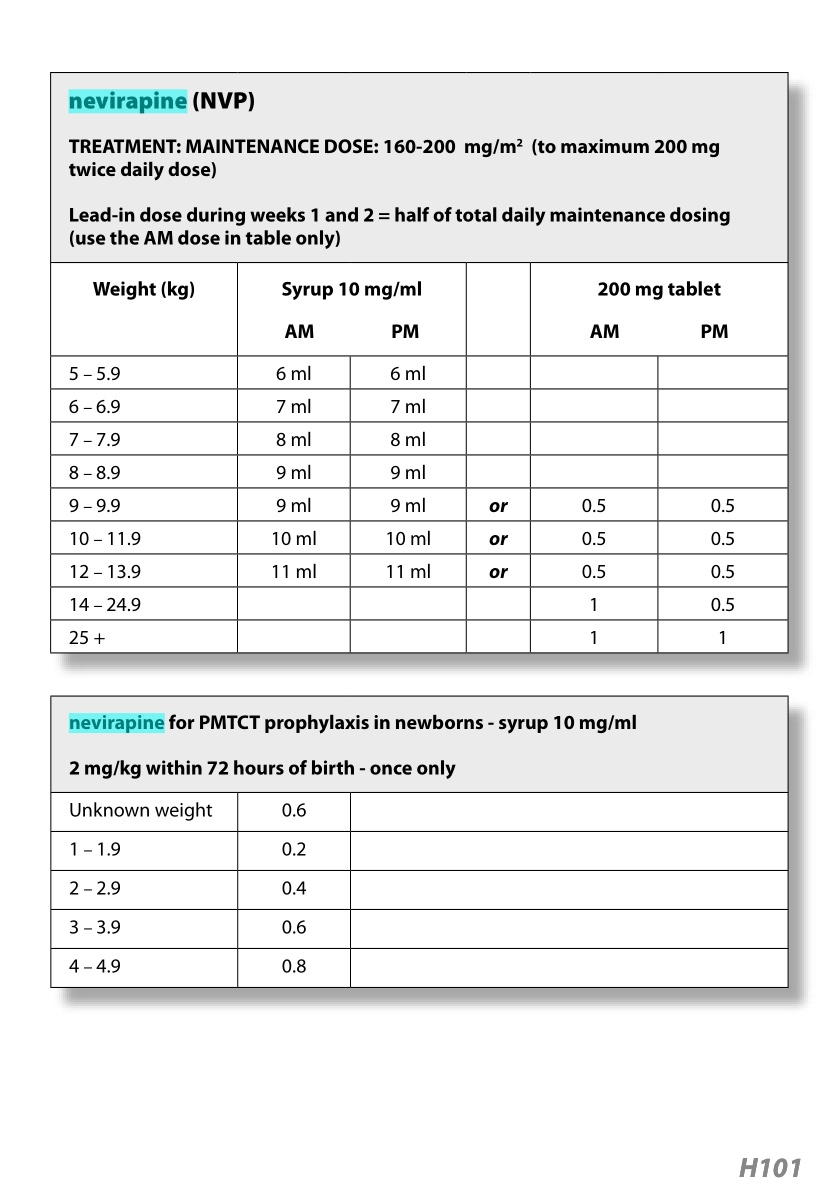merged_cells: (48, 71, 790, 655), (47, 693, 790, 990)
